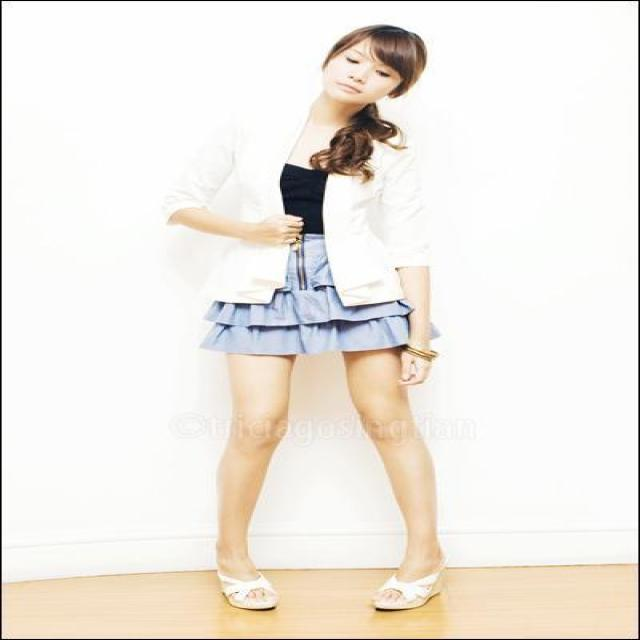jacket: (160, 121, 446, 307)
shirt: (280, 163, 326, 241)
shoe: (226, 576, 428, 607)
skirt: (200, 243, 413, 362)
